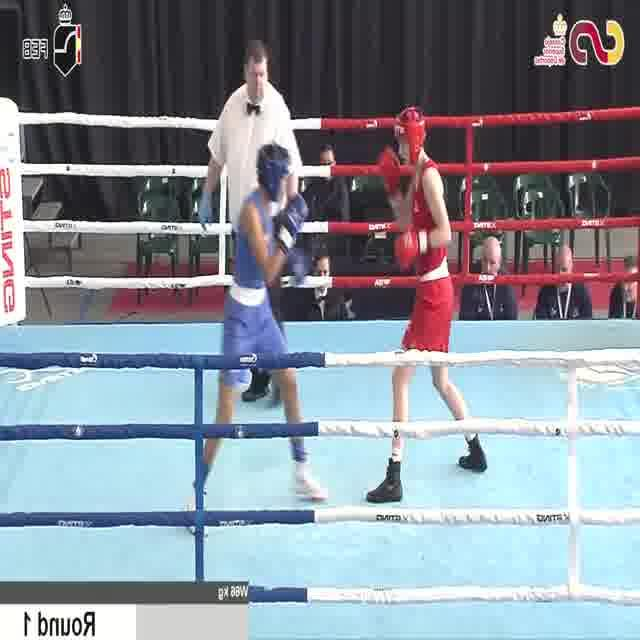blue-player: (183, 141, 333, 538)
red-player: (364, 101, 490, 506)
referee: (194, 39, 306, 413)
